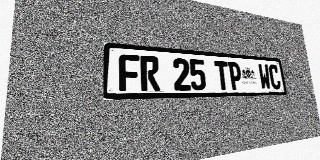2: (173, 58, 191, 91)
5: (189, 59, 207, 90)
C: (268, 64, 281, 90)
F: (119, 54, 140, 91)
P: (227, 61, 243, 90)
R: (140, 55, 160, 91)
T: (214, 60, 230, 90)
W: (258, 64, 272, 90)
